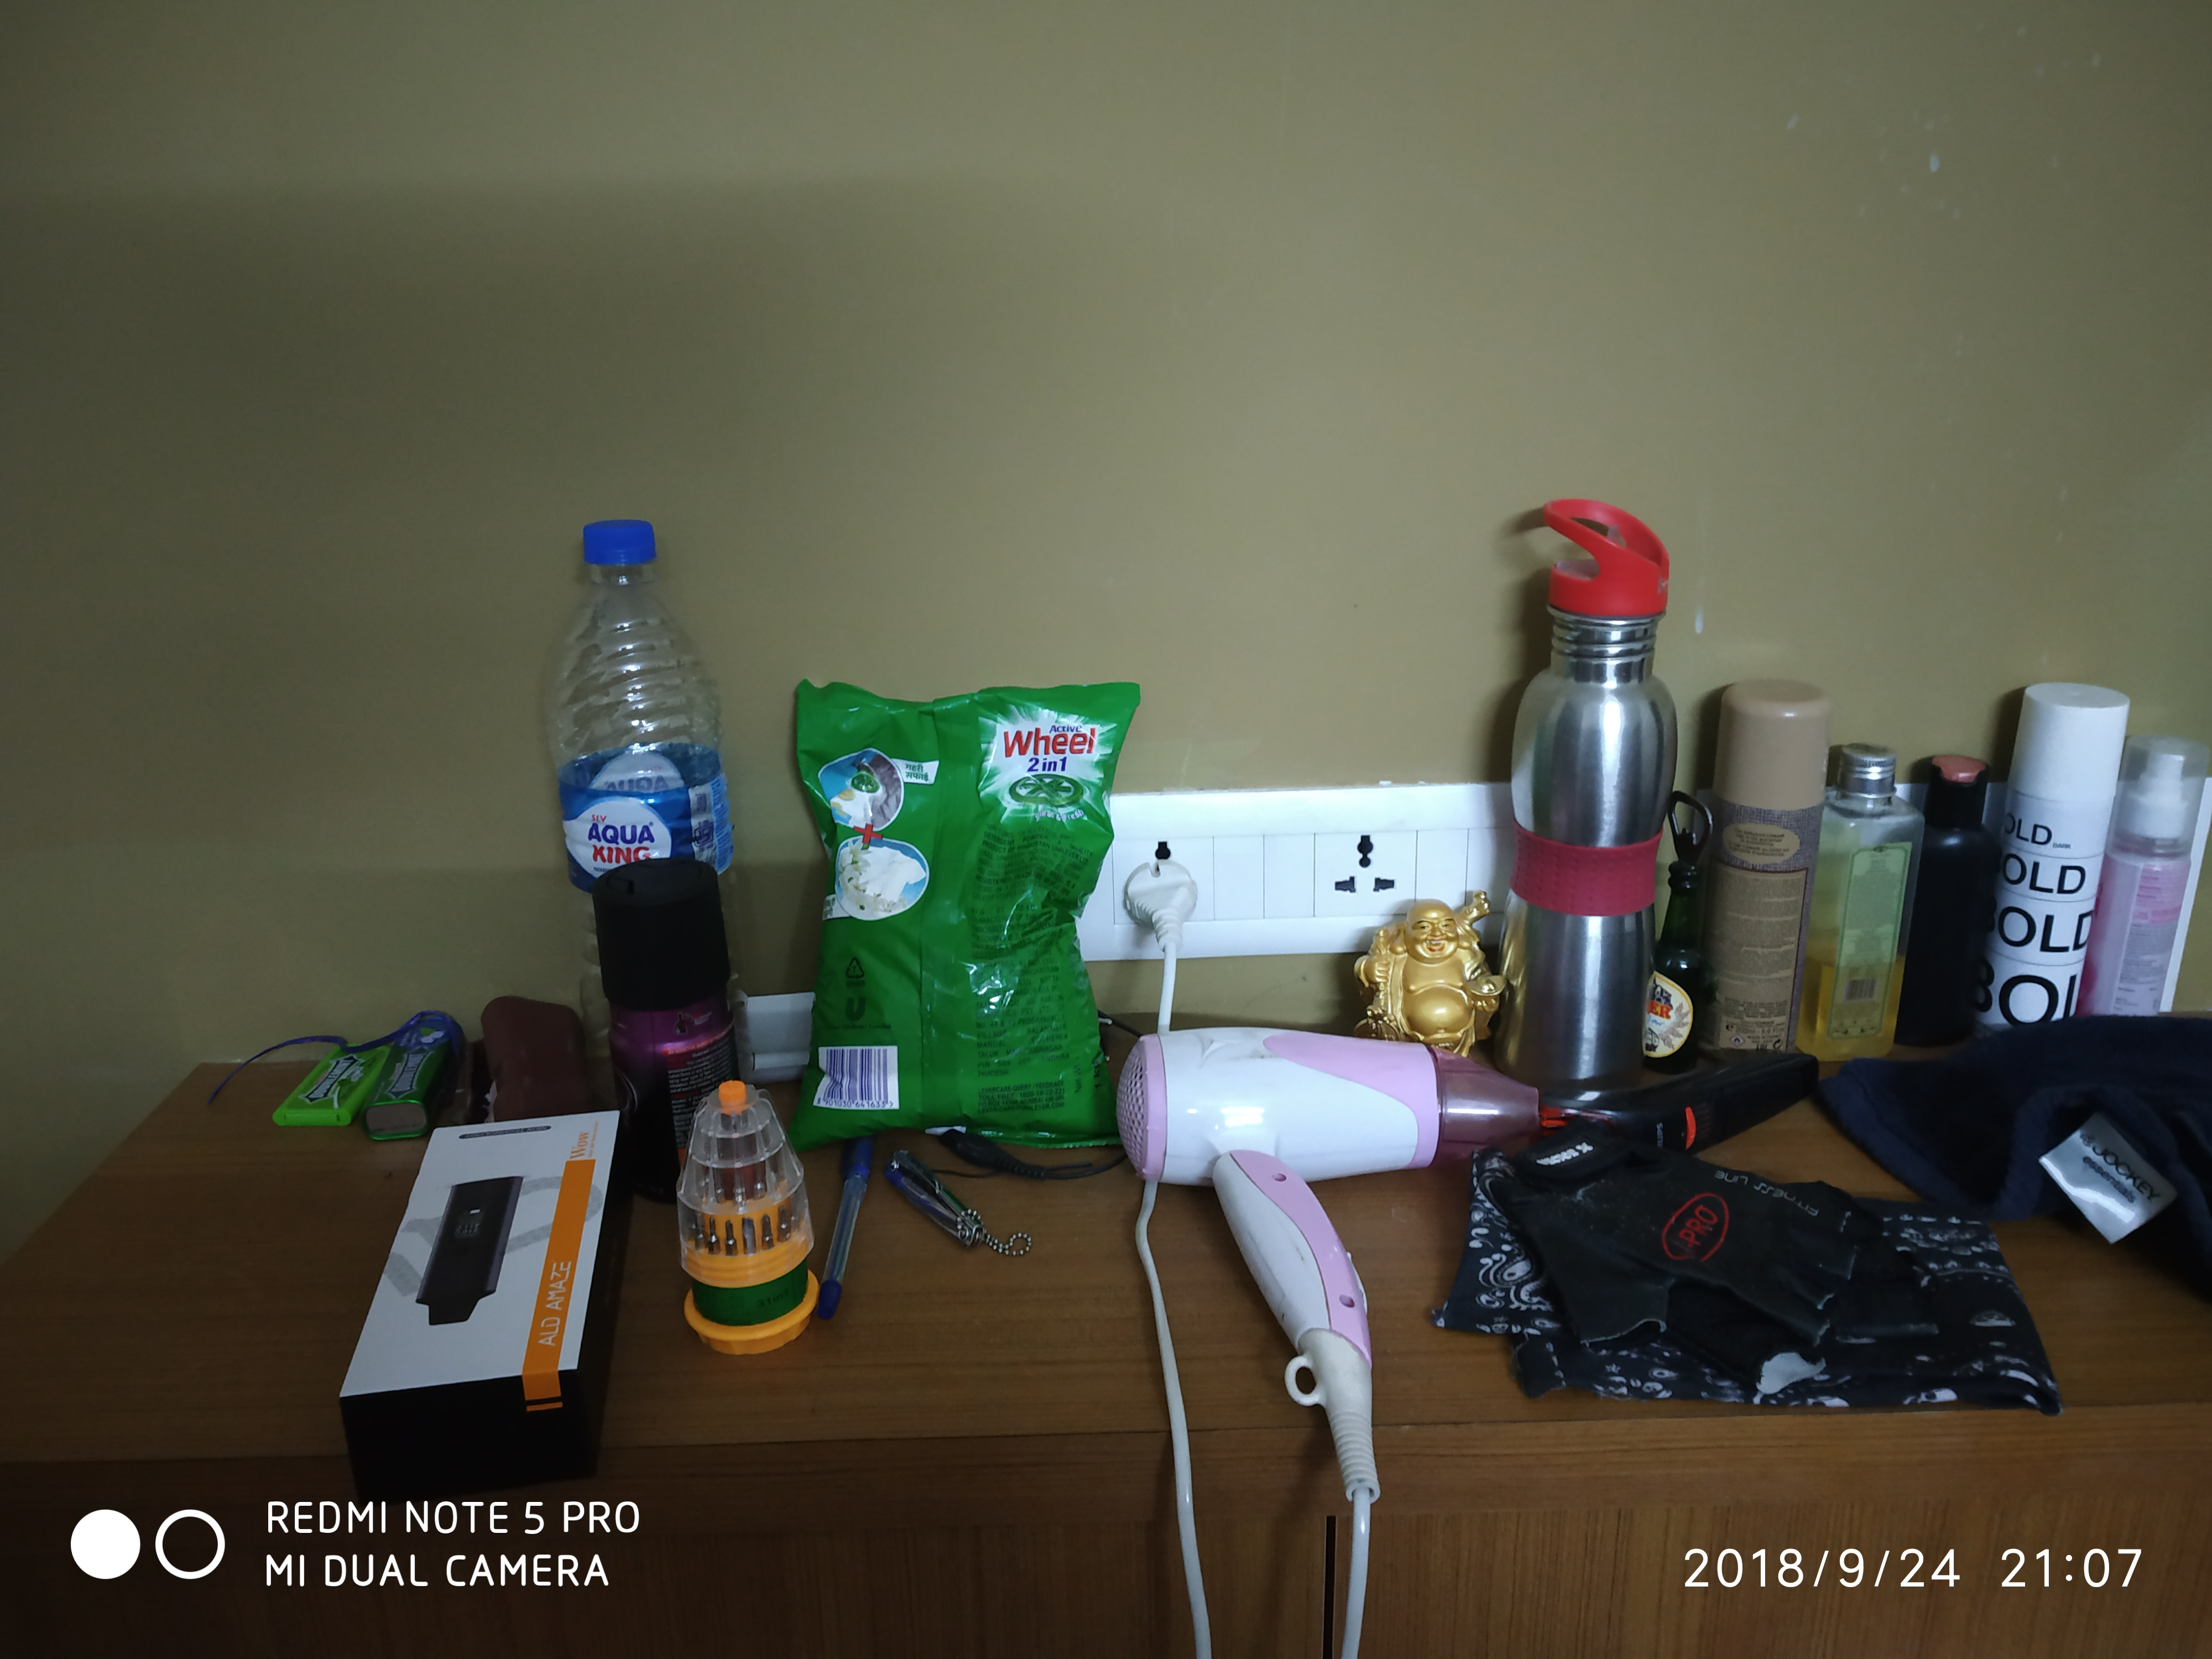detergent: (788, 671, 1140, 1151)
